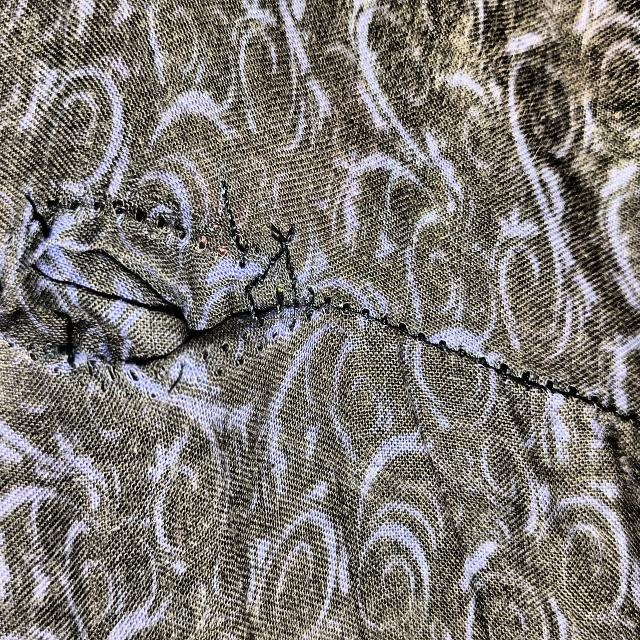Stitch: (204, 192, 338, 347), (216, 207, 321, 346)
seam: (0, 126, 357, 437)
